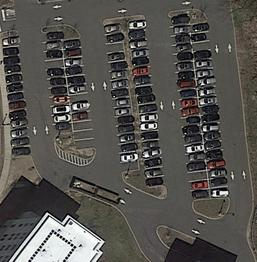parkingspot: (167, 14, 211, 202), (188, 21, 232, 200), (126, 18, 166, 188), (102, 23, 140, 174), (61, 36, 96, 151), (1, 35, 33, 158), (40, 30, 74, 136)
